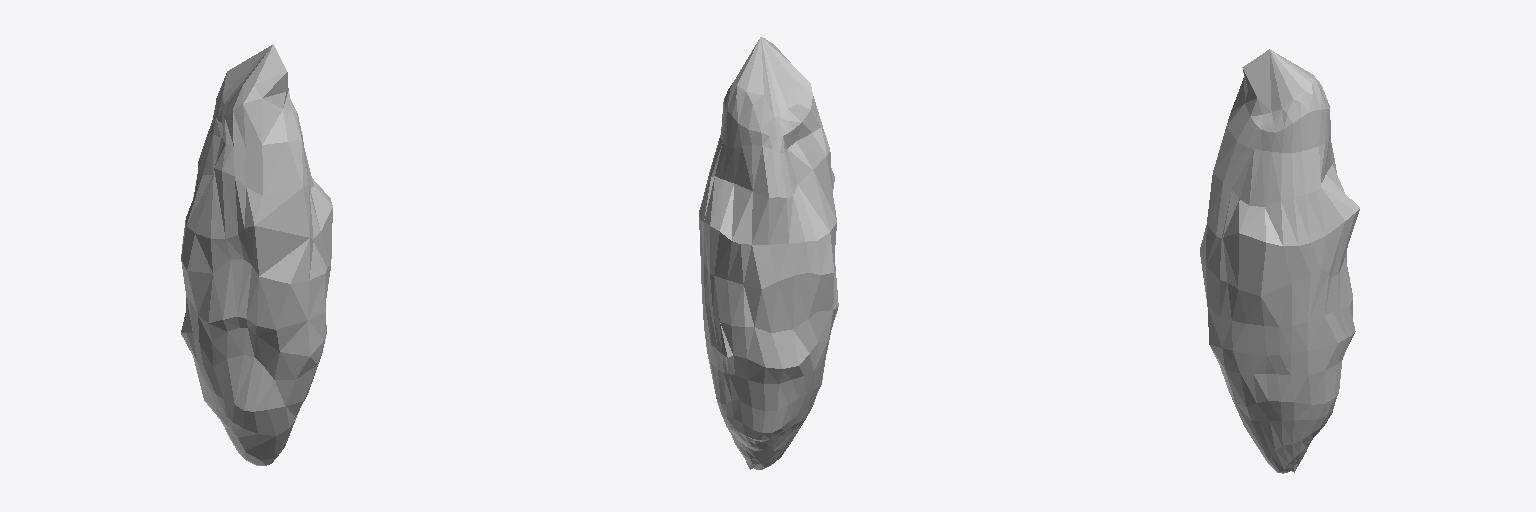
The model's file is obelisk.obj.
The picture shows the model from 3 angles: view 1: azimuth 30°, elevation 25°; view 2: azimuth 150°, elevation 25°; view 3: azimuth 270°, elevation 25°; orthographic projection.
Visible parts, largest first — view 1: Cylinder; view 2: Cylinder; view 3: Cylinder.
Part boxes in pixels (left/top/right/bottom): Cylinder: left=181, top=44, right=332, bottom=465; Cylinder: left=699, top=37, right=838, bottom=469; Cylinder: left=1200, top=49, right=1359, bottom=473.
Bounding box in the file's own units: 6.7 × 20.14 × 6.89.